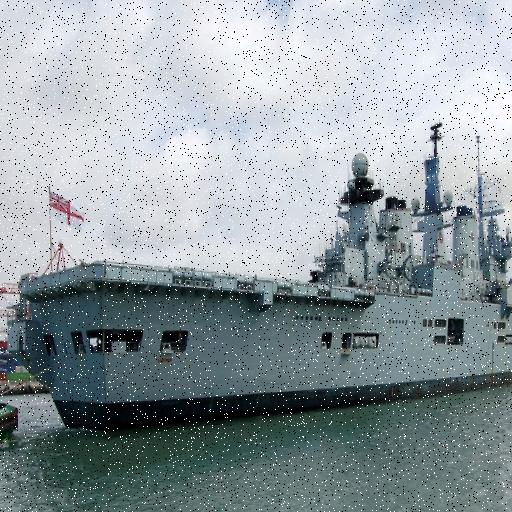Portanaves: (6, 114, 512, 435)
